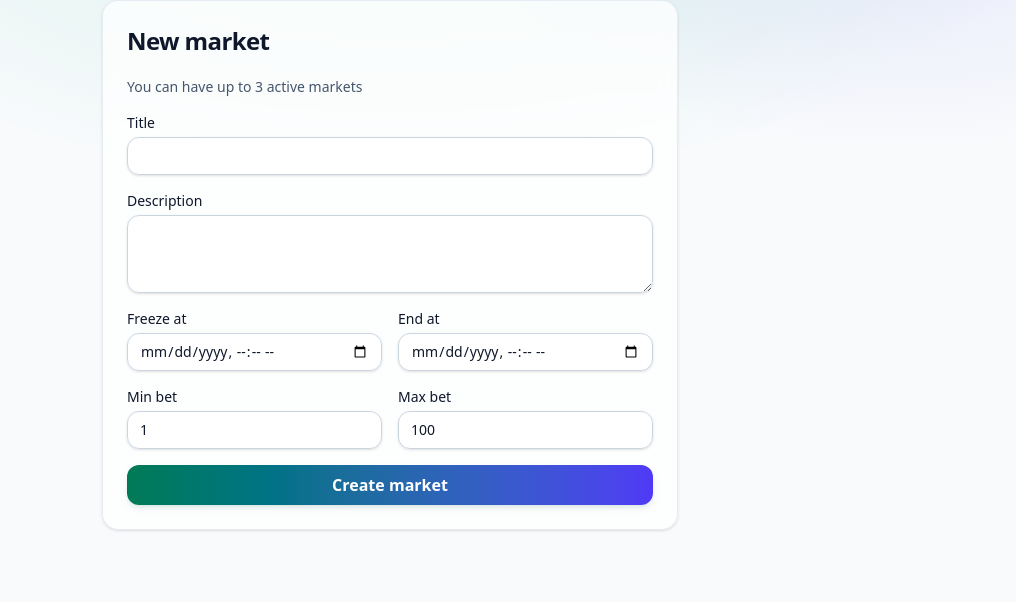
creating a fourth market shows the limit message
This screenshot has width=1016, height=602.
Type "T" into the field labelled "Title" at (390,156), box [127,137,653,175]
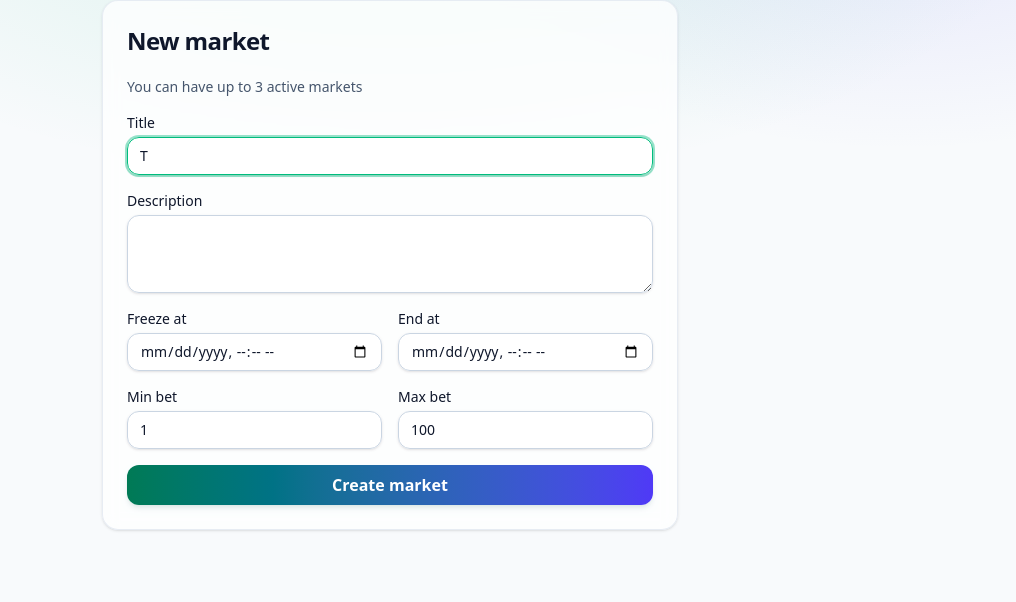
Type "2026-10-10T12:00" into the field labelled "Freeze at" at (254,352), box [127,333,382,371]
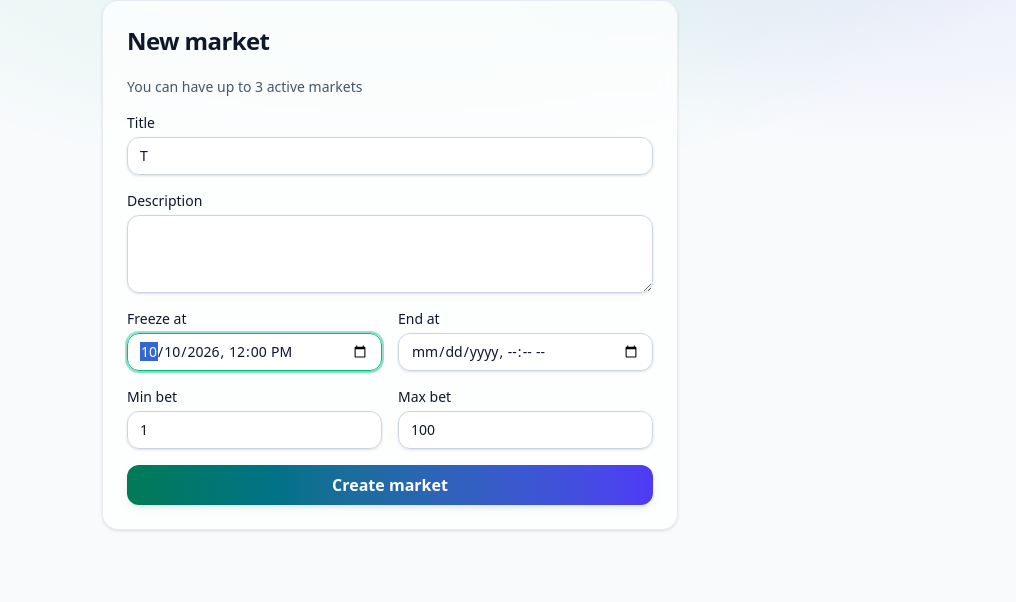
Type "2026-10-11T12:00" into the field labelled "End at" at (526,352), box [398,333,653,371]
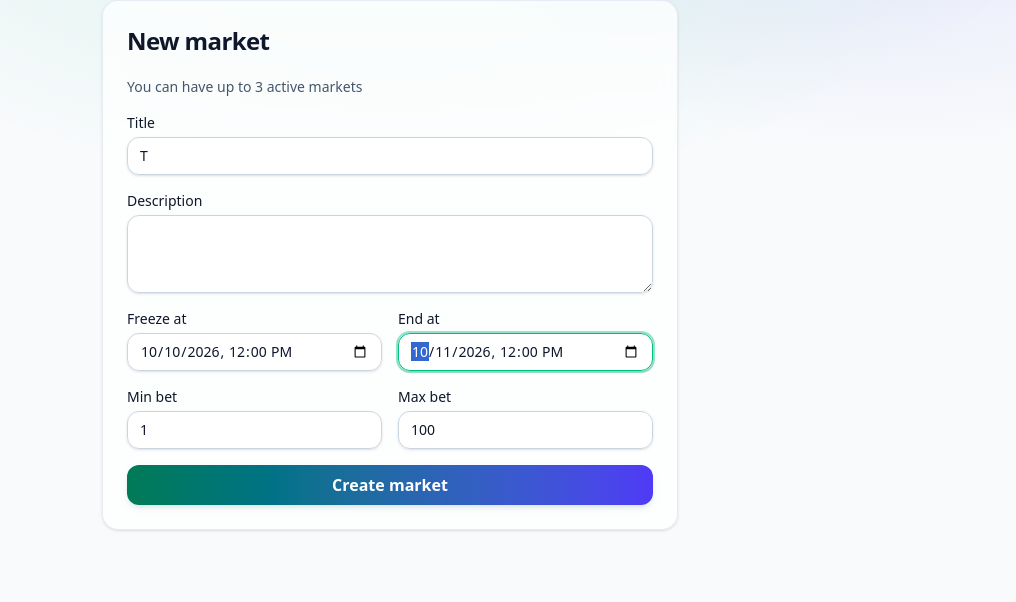
Click the button "Create market" at (390,485), box [127,465,653,505]
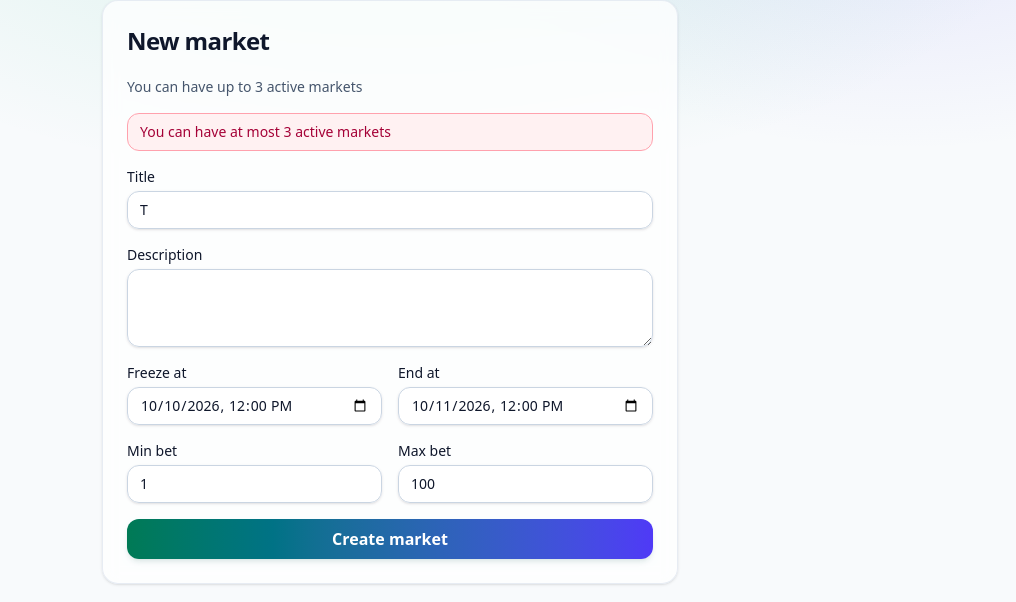
Result: the message reads "You can have at most 3 active markets" at [140,122,391,141]
